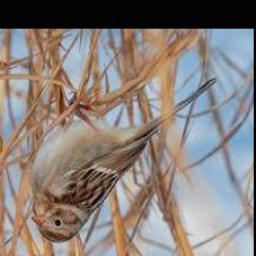Sparrow: (30, 76, 217, 243)
